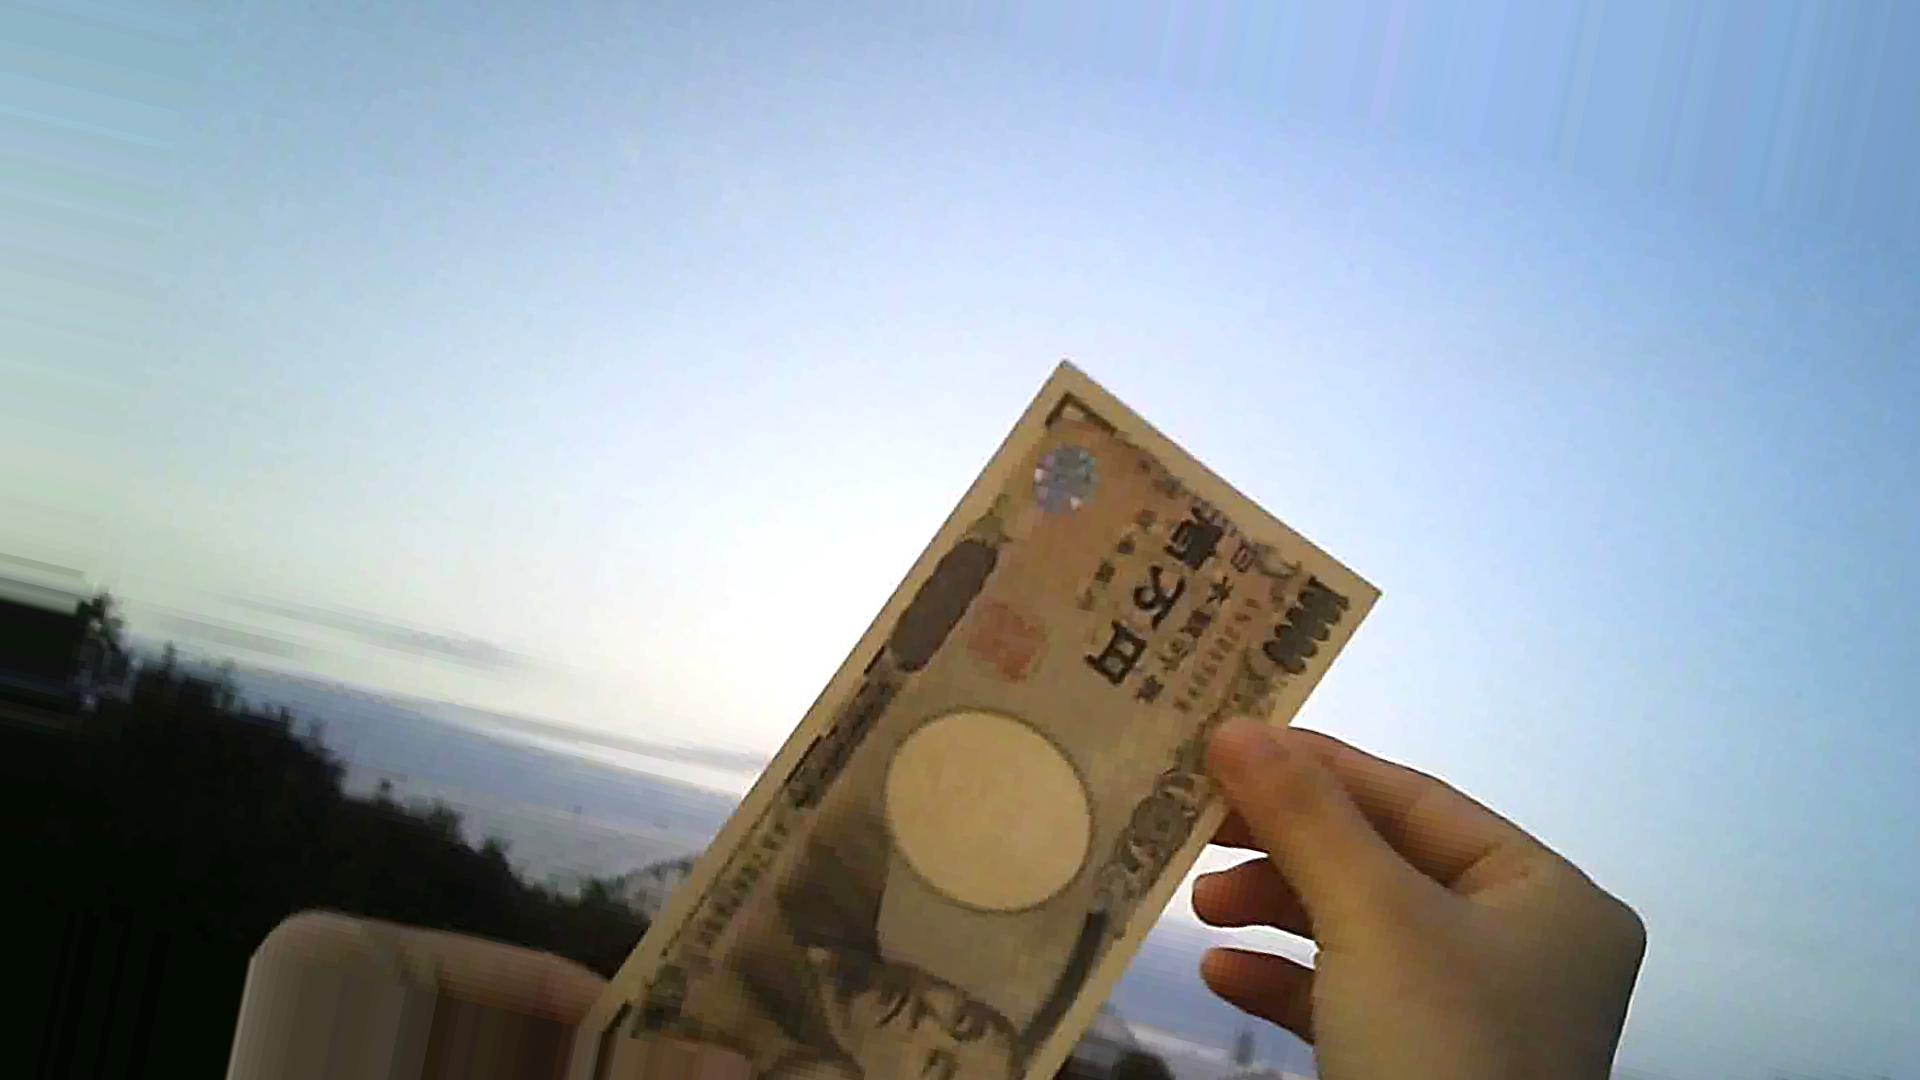10,000 Yen: (539, 336, 1407, 1069)
